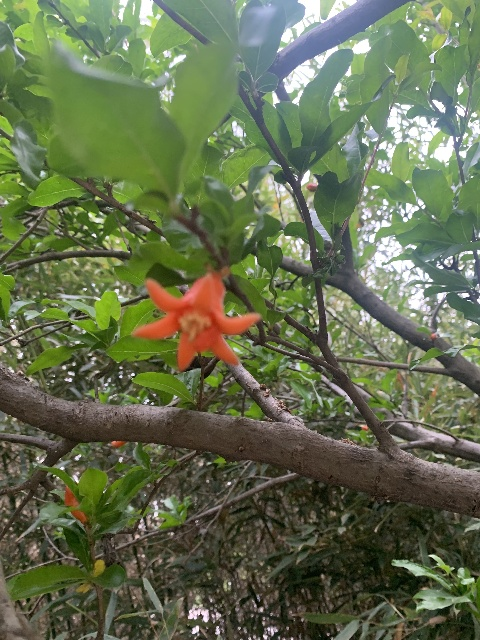bud: (63, 486, 85, 523)
flower: (131, 268, 260, 372)
